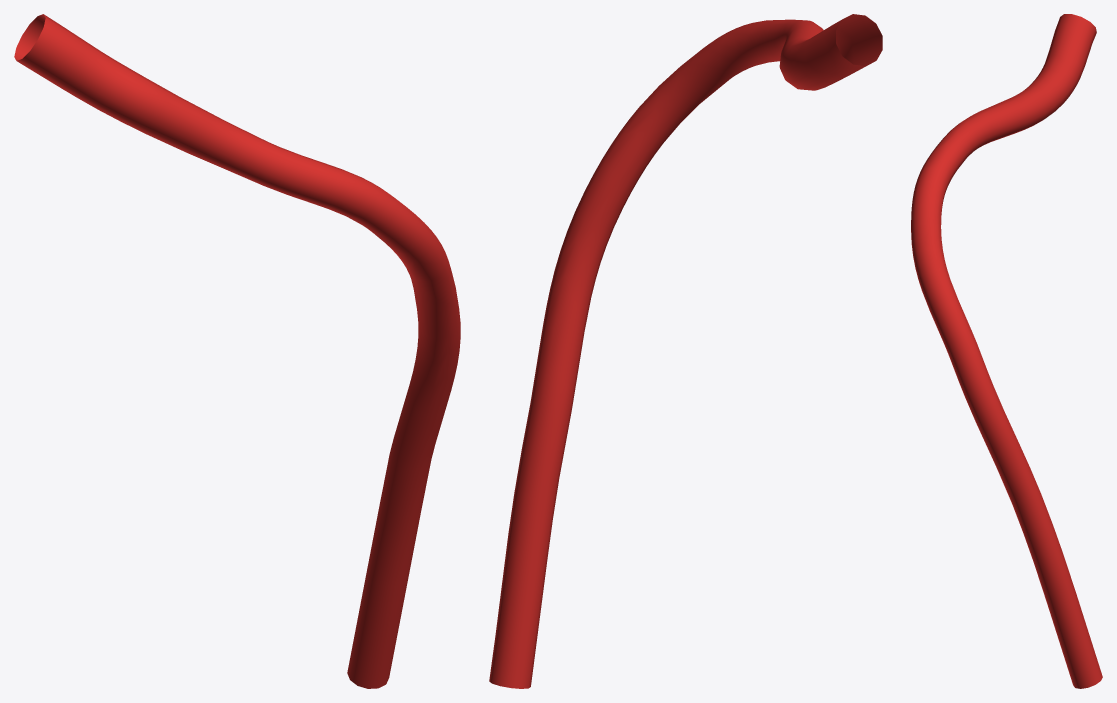
Rendered from circulatorio-anterior-spinal-artery-r.glb.
3 views of the same model, side by side, from view 1: azimuth 30°, elevation 25°; view 2: azimuth 150°, elevation 25°; view 3: azimuth 270°, elevation 25° (orthographic). The views are drawn at different scales.
Visible parts, largest first — view 1: Anterior spinal artery.r; view 2: Anterior spinal artery.r; view 3: Anterior spinal artery.r.
Part boxes in pixels (bbox=[...]): Anterior spinal artery.r: bbox=[14, 14, 460, 688]; Anterior spinal artery.r: bbox=[489, 14, 882, 688]; Anterior spinal artery.r: bbox=[911, 14, 1102, 688].
Bounding box in the file's own units: 0.0145 × 0.0274 × 0.00865.
